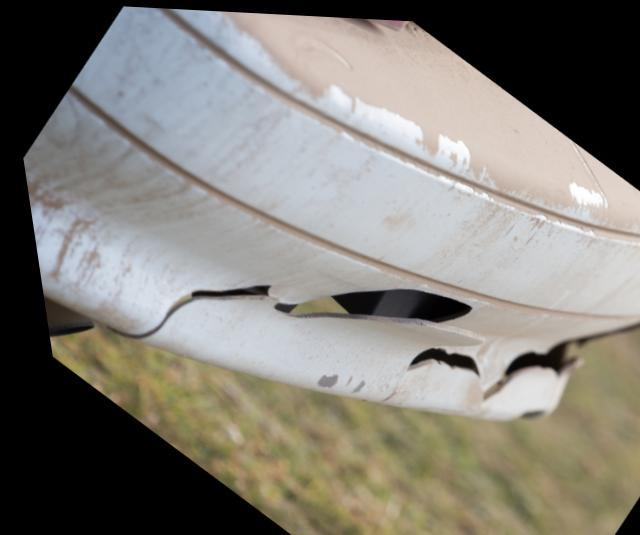crack: (97, 281, 640, 395)
